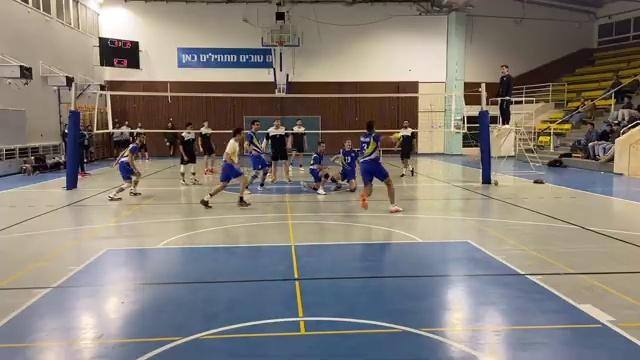ball: (392, 129, 406, 144)
